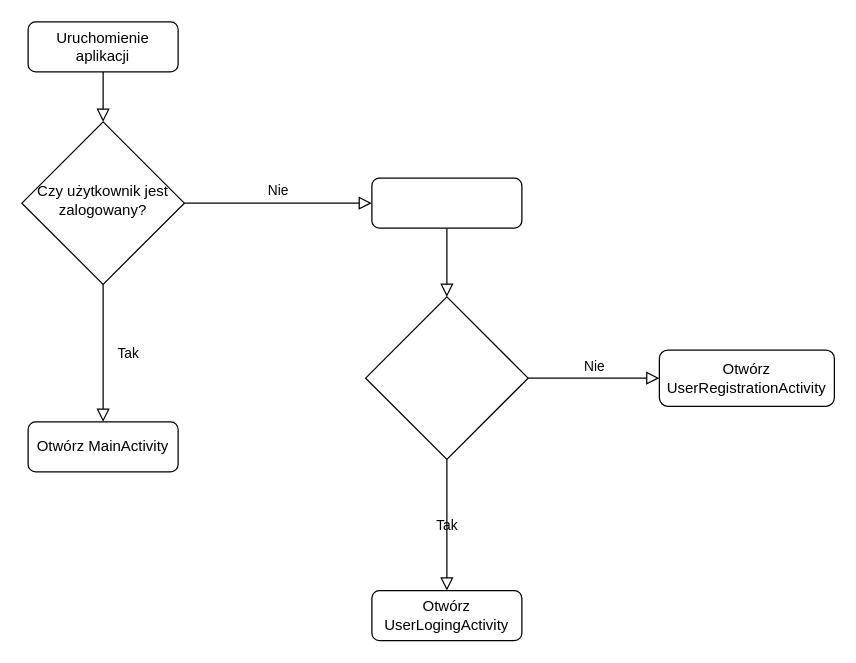
Some shapes in this 856 by 663 pixel diagram are drawn without their labels. The shapes that lost their labels are listed below. From the top down, each one's centre as x and y in pixels, then its label:
(446,202): Podanie adresu e-mail/loginu
(446,377): Czy adres/login istnieje w bazie?
